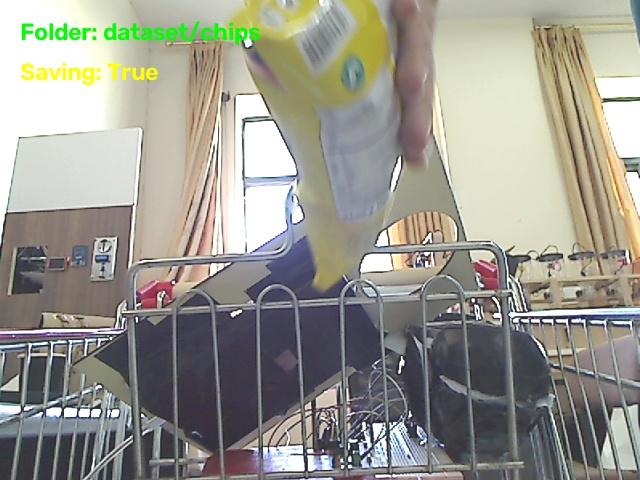chips: (233, 0, 399, 290)
